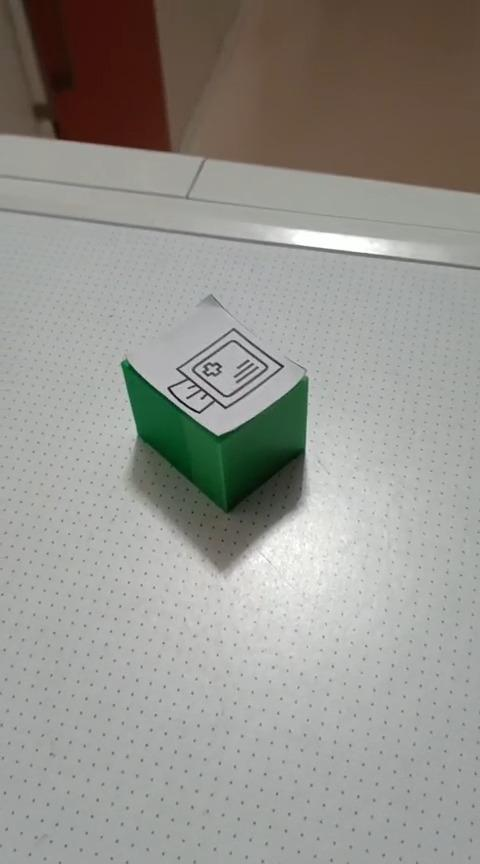Gauze: (119, 292, 309, 513)
